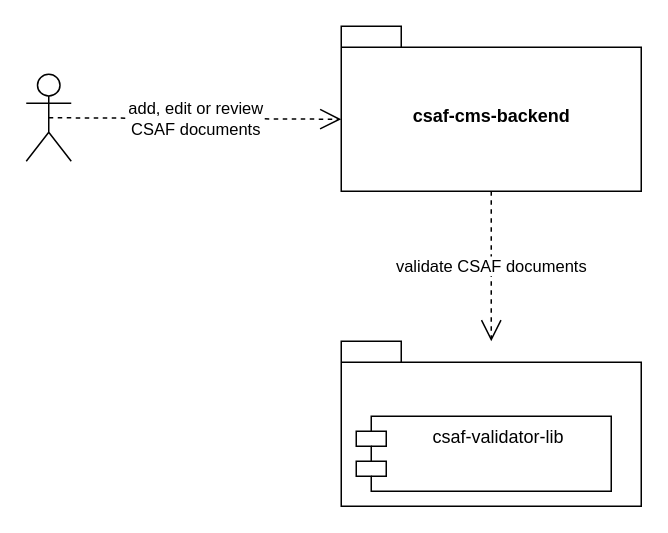
Some shapes in this 668 by 533 pixel diagram are drawn without their labels. The box of each missing label's shape, as (x1, y1, x2, y2) in pixels:
csaf-validator-service: (340, 340, 641, 506)
Editor: (25, 73, 71, 161)
